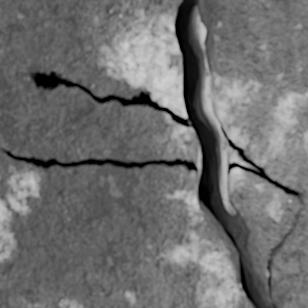broken_brick: (0, 154, 249, 307), (201, 0, 307, 307), (0, 0, 194, 161)
crack: (0, 0, 306, 307)
